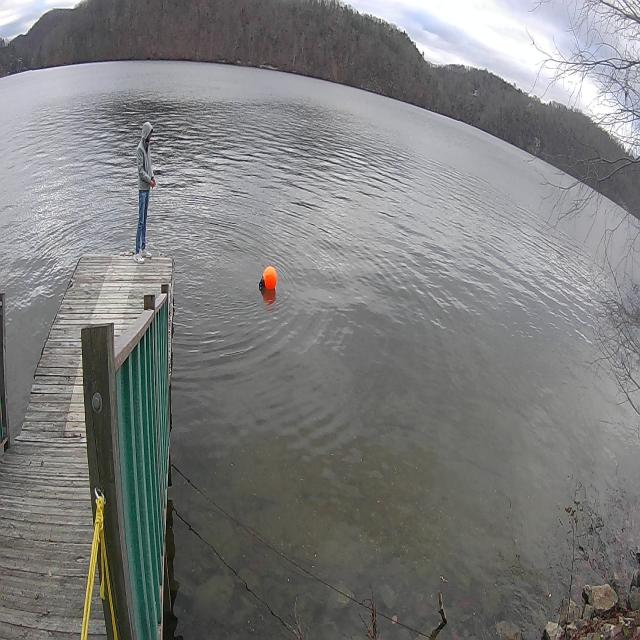Buoy: (262, 264, 278, 294)
